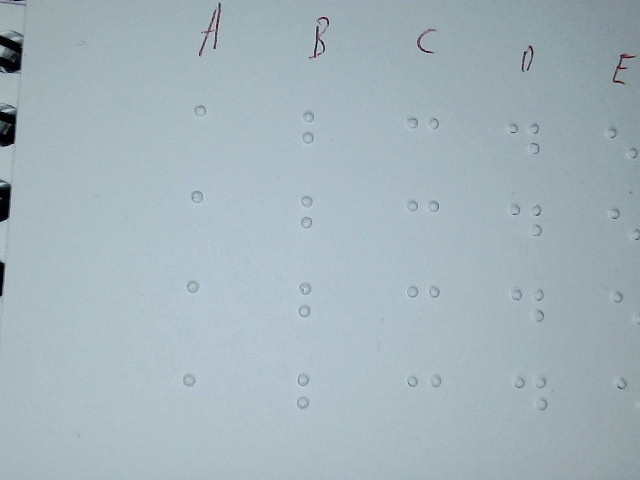A: (182, 92, 238, 178), (181, 178, 237, 264), (178, 269, 234, 355), (174, 362, 230, 448)
B: (292, 100, 342, 178), (291, 185, 341, 263), (289, 272, 339, 350), (287, 363, 337, 441)
C: (399, 107, 449, 182), (400, 187, 450, 262), (400, 273, 450, 348), (401, 363, 451, 438)
